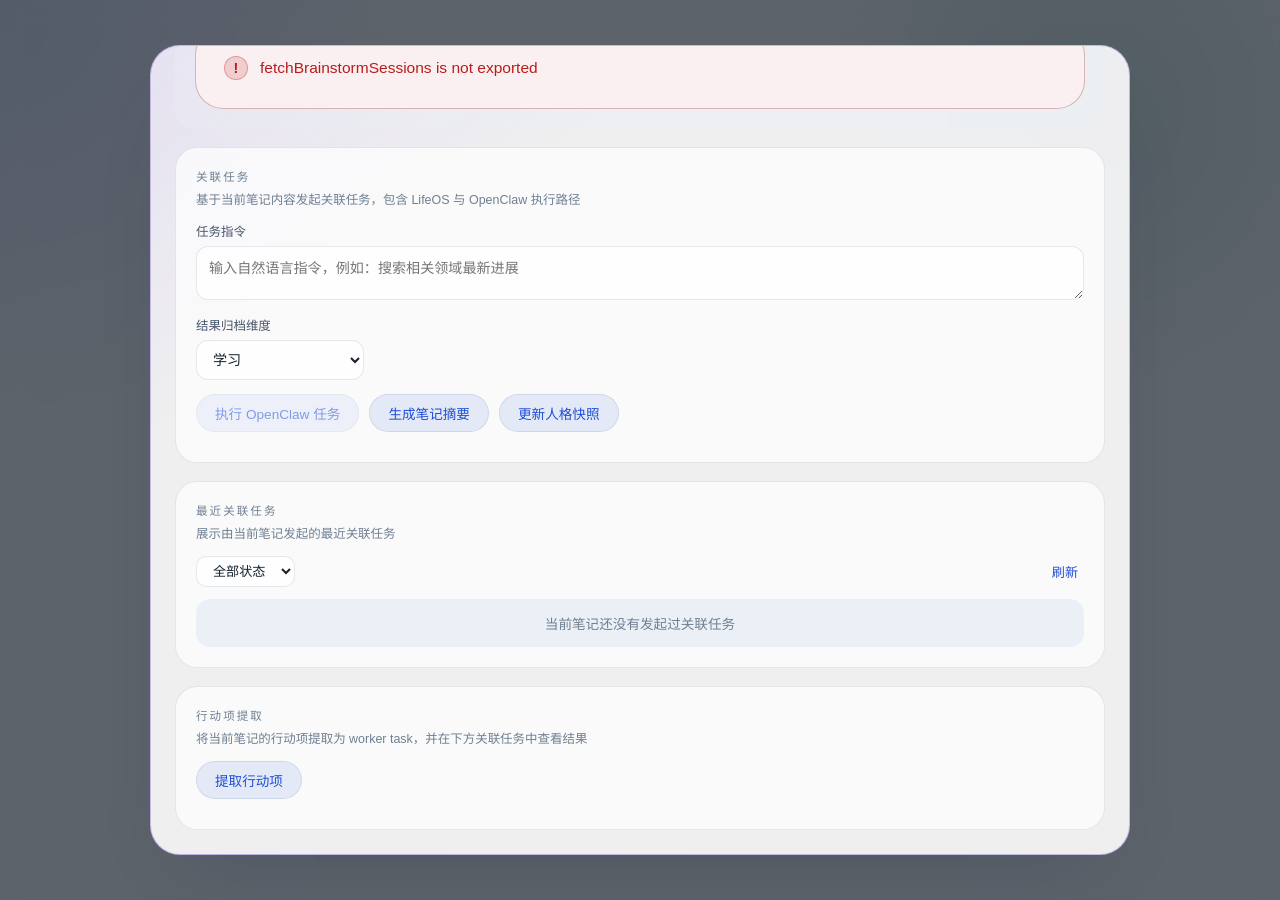
Scenario: NoteDetail › renders localized worker-task metadata after extracting tasks
(page scrolled)
What coordinates should you click on to do the following:
click the button "提取行动项"
I would click on:
 (249, 780)
Its box is [196,761,302,799].
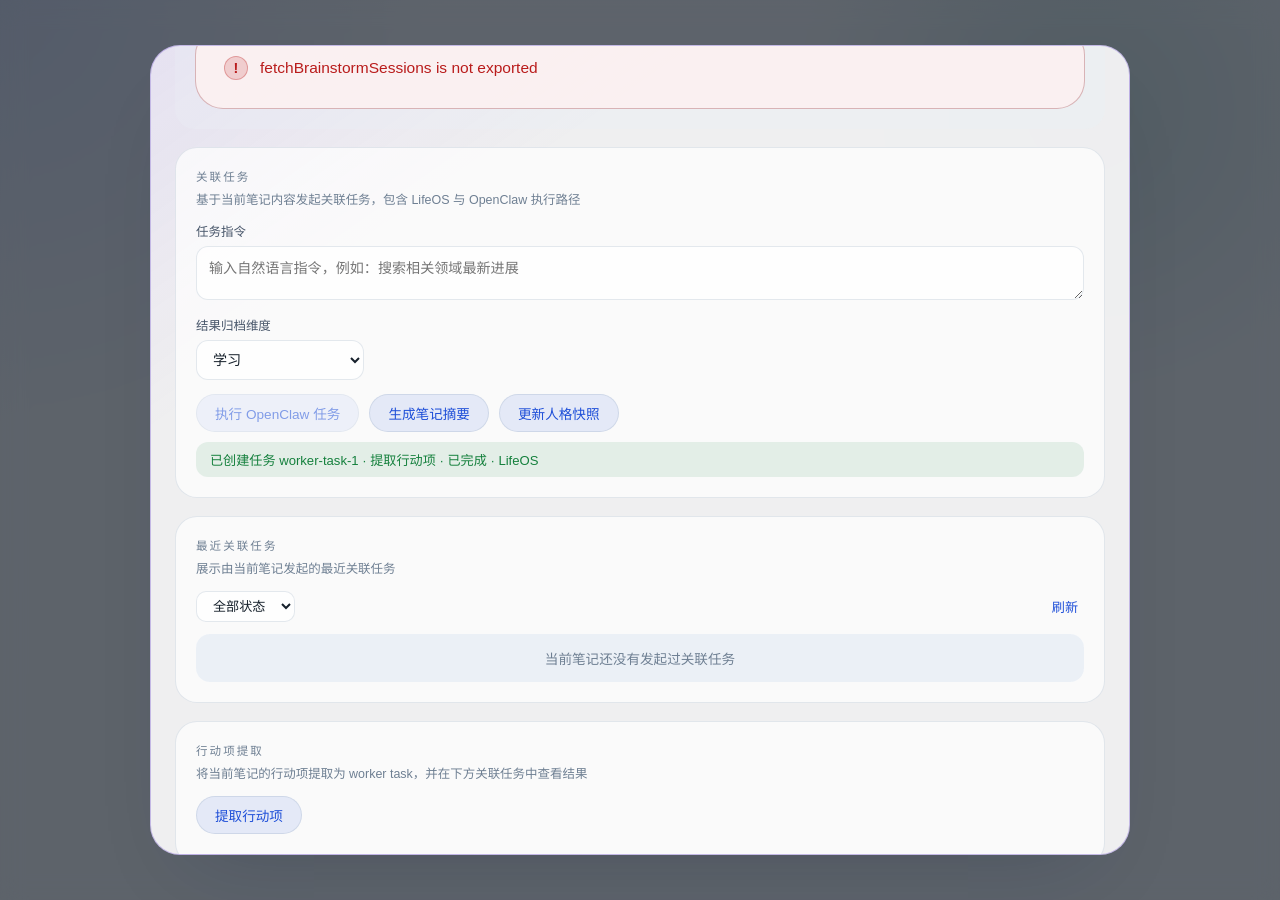
Result: the text "已创建任务 worker-task-1 · 提取行动项 · 已完成 · LifeOS" is shown at [196,442,1084,477]
